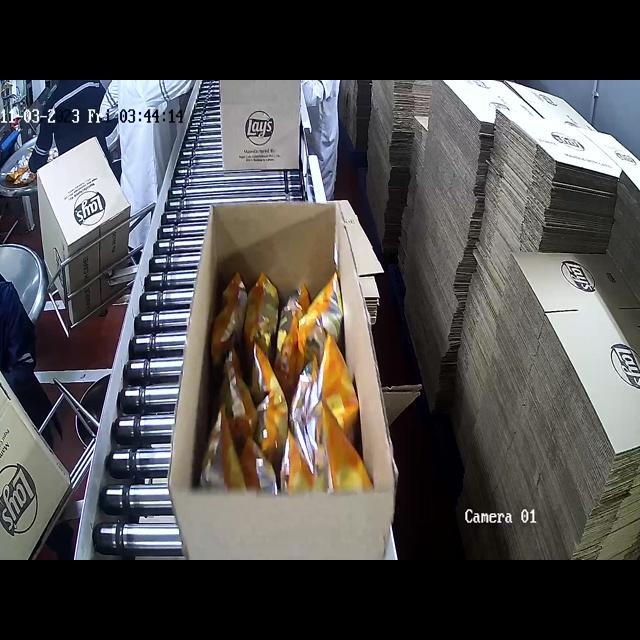cheese: (212, 259, 363, 479)
